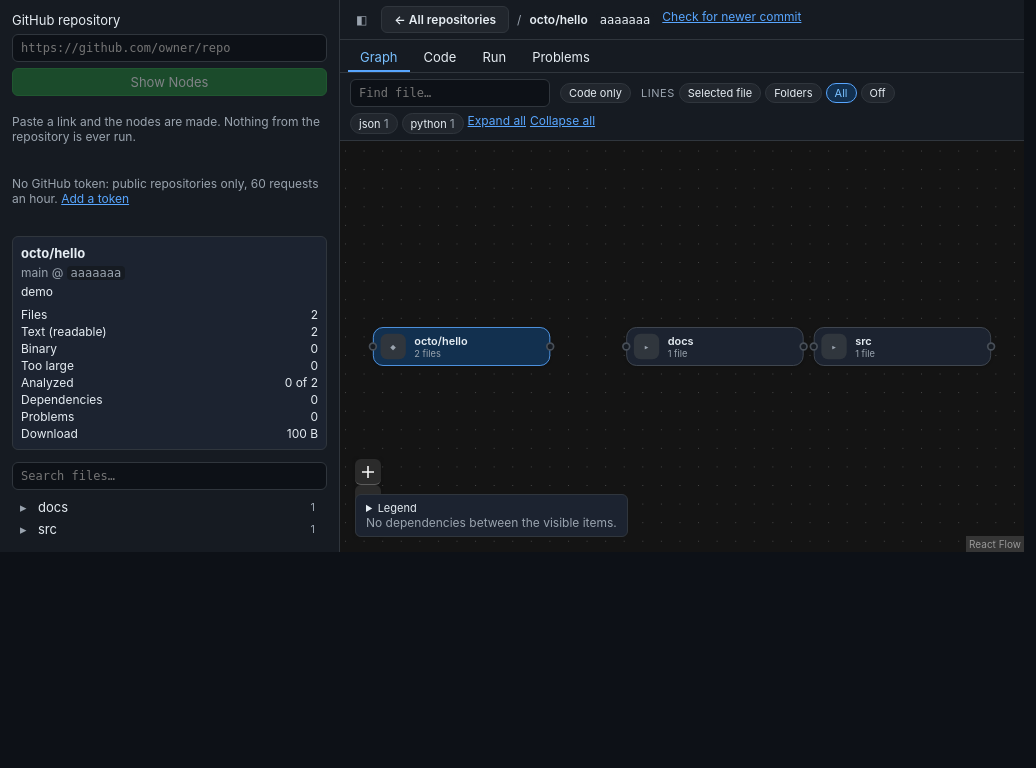
it: Repository Explorer › filters the tree with search
Type "readme" into the search field labelled "Search files".
click(170, 476); type("readme")  # box 12,462 -> 327,490
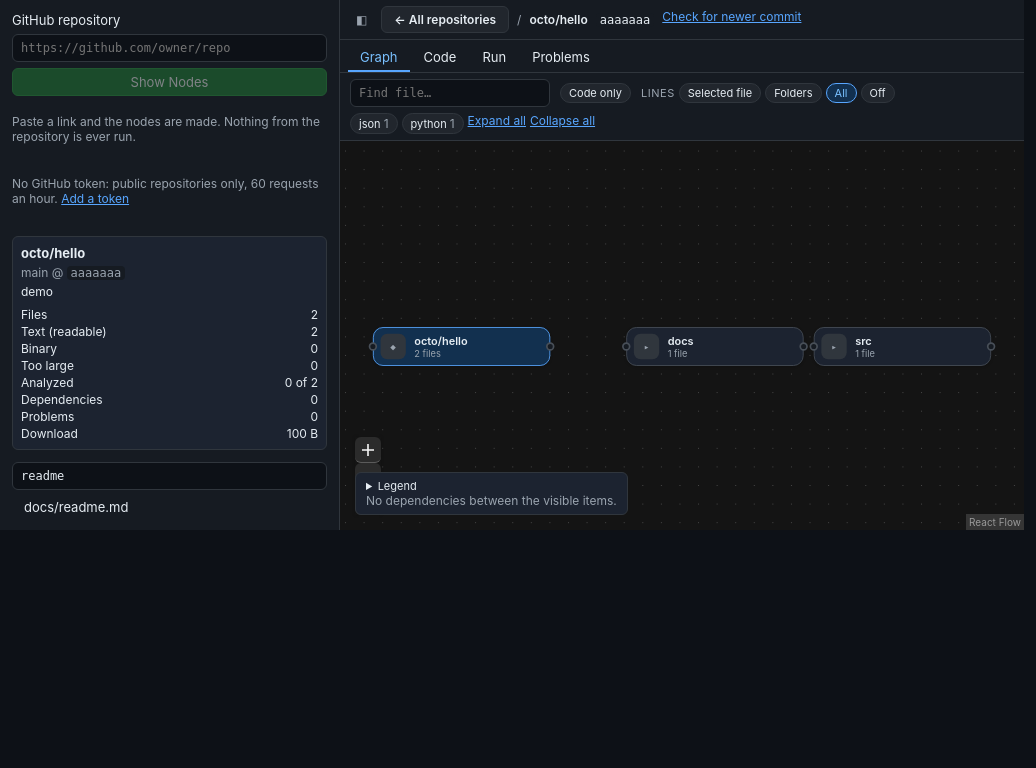
Check: the option "docs/readme.md" is shown, box 12,496 -> 327,518
